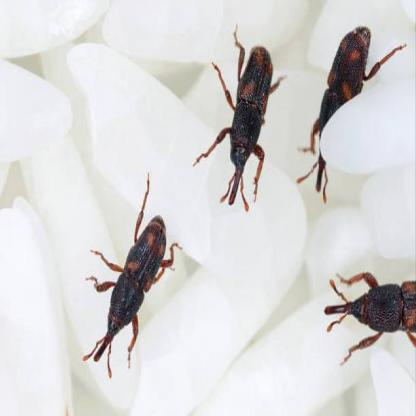rice-bug: (300, 23, 386, 194), (90, 204, 174, 362), (205, 40, 282, 202), (324, 265, 416, 350)
